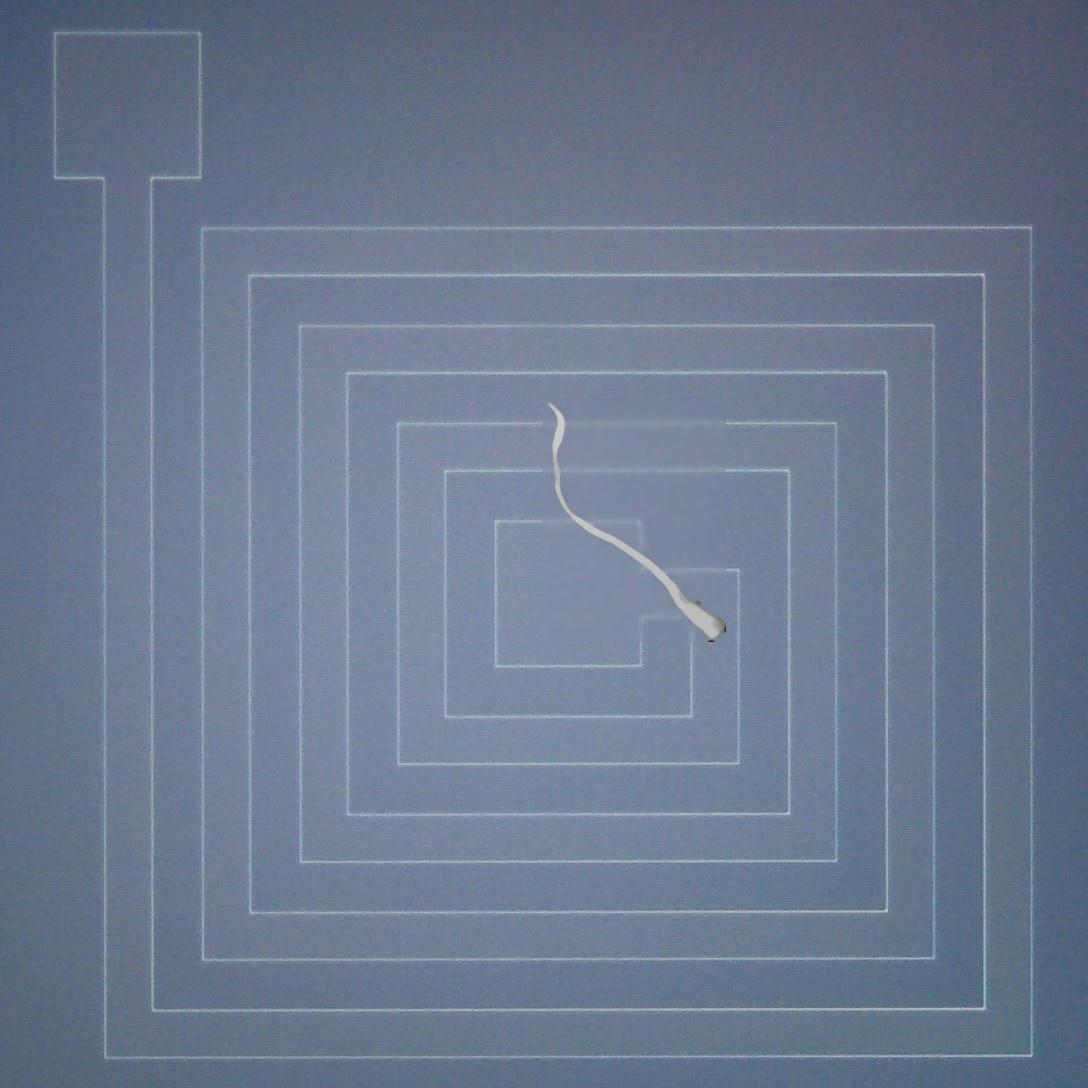foreign: (544, 400, 730, 645)
